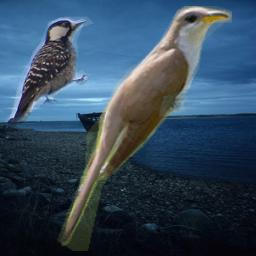Cuckoo: (55, 6, 232, 251)
Woodpecker: (0, 13, 94, 135)
